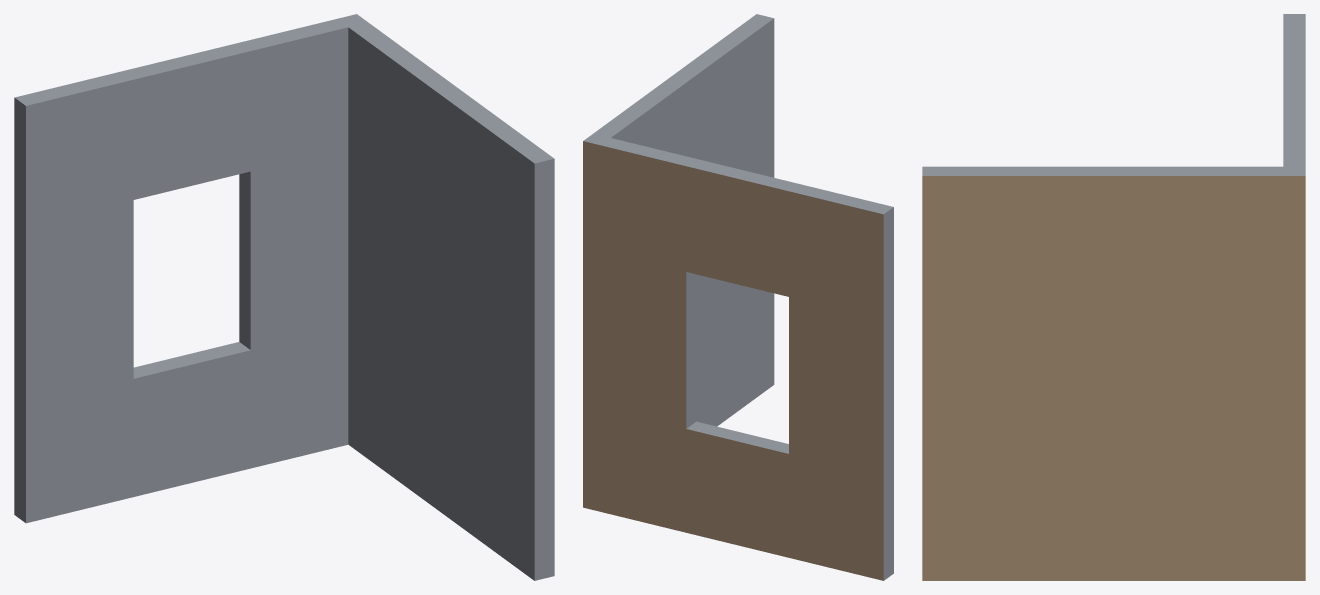
File: Wall2_C6_07.fbx
The picture shows the model from 3 angles, left to right: view 1: azimuth 30°, elevation 25°; view 2: azimuth 150°, elevation 25°; view 3: azimuth 270°, elevation 25°; orthographic projection. The views are drawn at different scales.
Visible parts, largest first — view 1: Wall2_C6_07; view 2: Wall2_C6_07; view 3: Wall2_C6_07.
Part boxes in pixels (<box>): Wall2_C6_07: <box>14,14,554,580</box>; Wall2_C6_07: <box>583,14,893,580</box>; Wall2_C6_07: <box>922,14,1305,580</box>.
Bounding box in the file's own units: 258 × 300 × 258.
